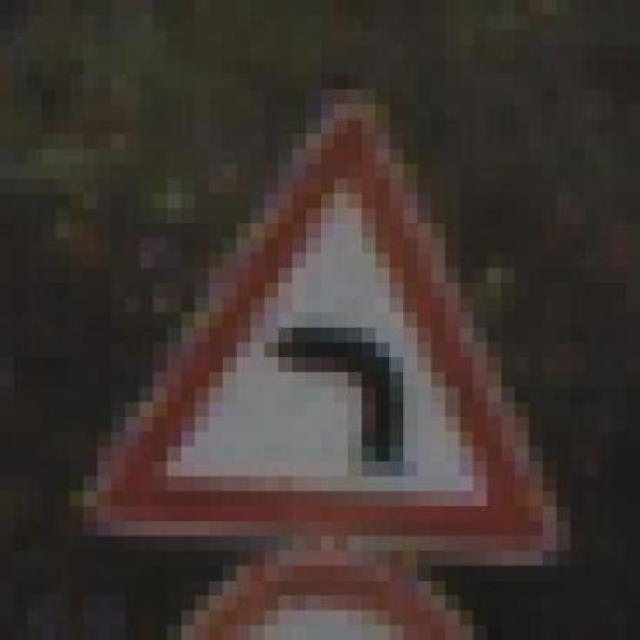Dangerous Left Curve Ahead: (83, 89, 571, 566)
